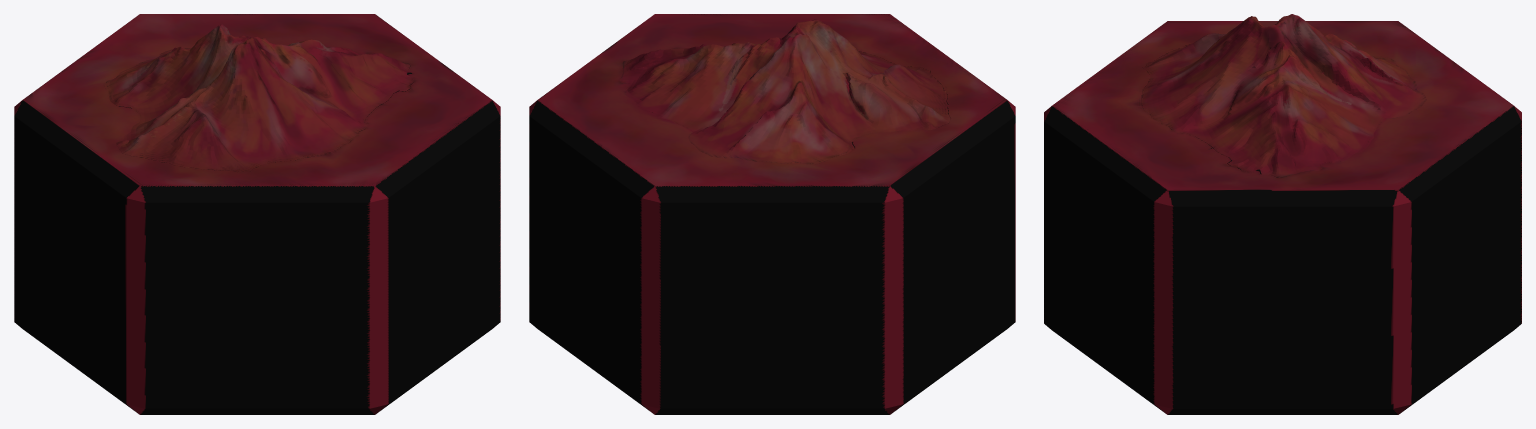
File: 01.Red (large).fbx
The picture shows the model from 3 angles, left to right: view 1: azimuth 30°, elevation 25°; view 2: azimuth 150°, elevation 25°; view 3: azimuth 270°, elevation 25°; orthographic projection.
Parts seen in each view (by area): view 1: 01.Red; view 2: 01.Red; view 3: 01.Red.
Part boxes in pixels (box(x1,y1,x2,y2)): 01.Red: box(14, 14, 500, 414); 01.Red: box(529, 14, 1015, 414); 01.Red: box(1044, 14, 1521, 414).
Size of the model in its own units: 446 by 349 by 502.
Materials: 1 (1 with a texture image).
